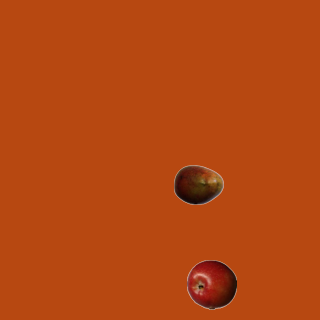Apple Braeburn: (186, 259, 236, 309)
Mango Red: (173, 159, 223, 209)
